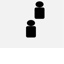human: (32, 0, 47, 19), (24, 19, 37, 39)
